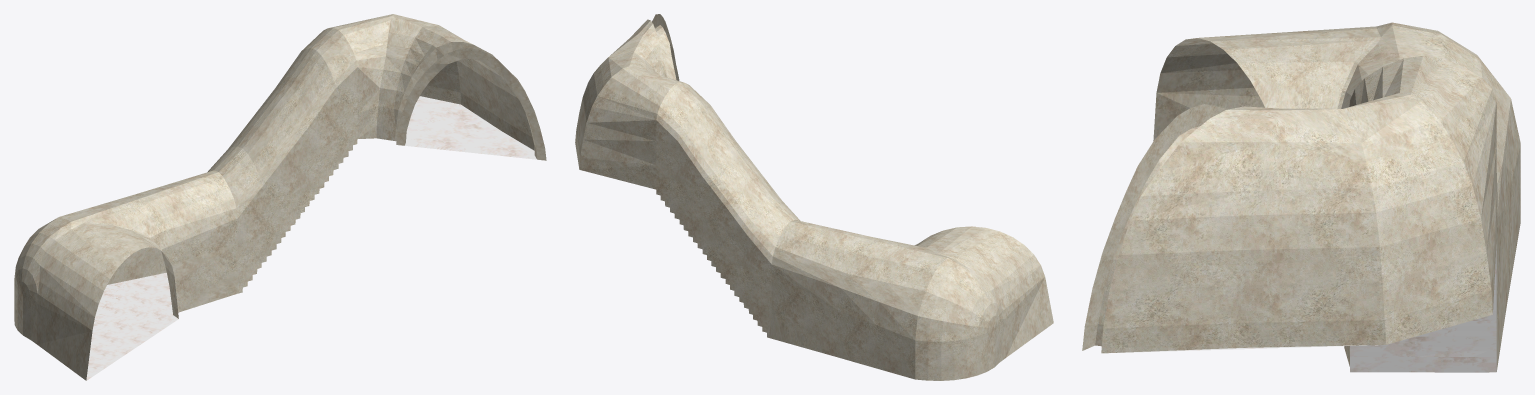
Rendered from ply_tato_assoc_hall_civ_s02_r6_stair1_mesh_r6.fbx.
3 views of the same model, side by side, from view 1: azimuth 30°, elevation 25°; view 2: azimuth 150°, elevation 25°; view 3: azimuth 270°, elevation 25° (orthographic). The views are drawn at different scales.
Visible parts, largest first — view 1: mesh_node; view 2: mesh_node; view 3: mesh_node.
Boxes of the visible parts, left/top/right/bottom form: mesh_node: left=14, top=14, right=546, bottom=380; mesh_node: left=575, top=14, right=1053, bottom=380; mesh_node: left=1082, top=22, right=1520, bottom=372.
Bounding box in the file's own units: 18.6 × 9.12 × 8.22.
